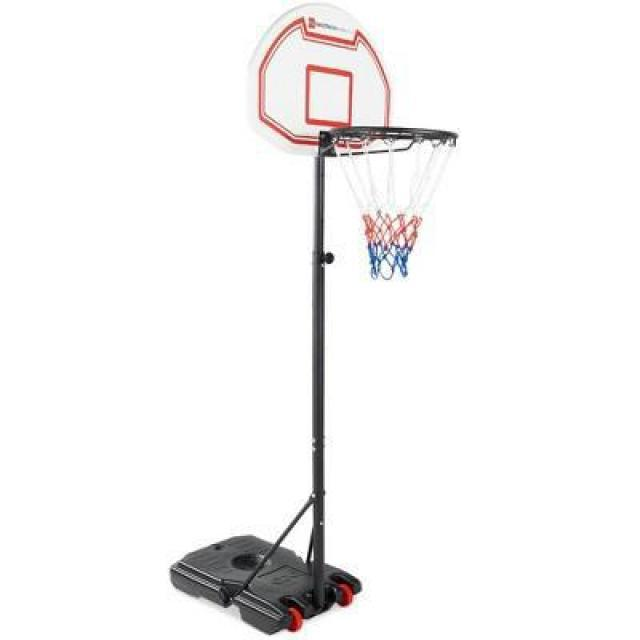hoop: (332, 126, 458, 280)
